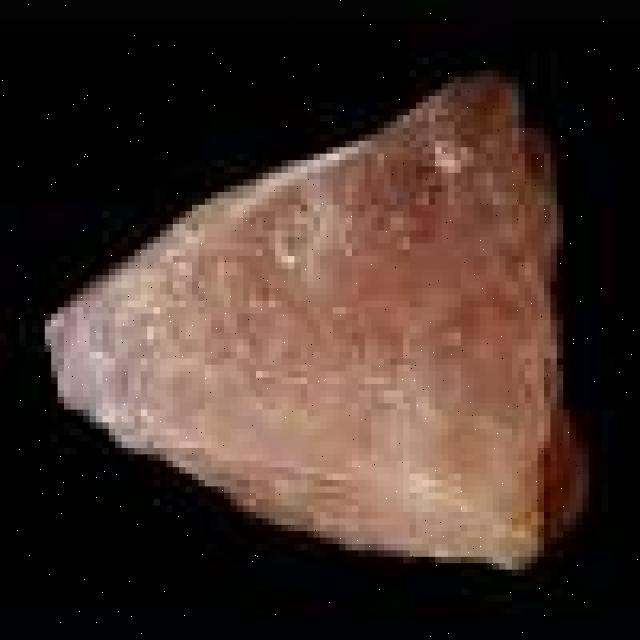Metamorphic: (51, 70, 602, 589)
